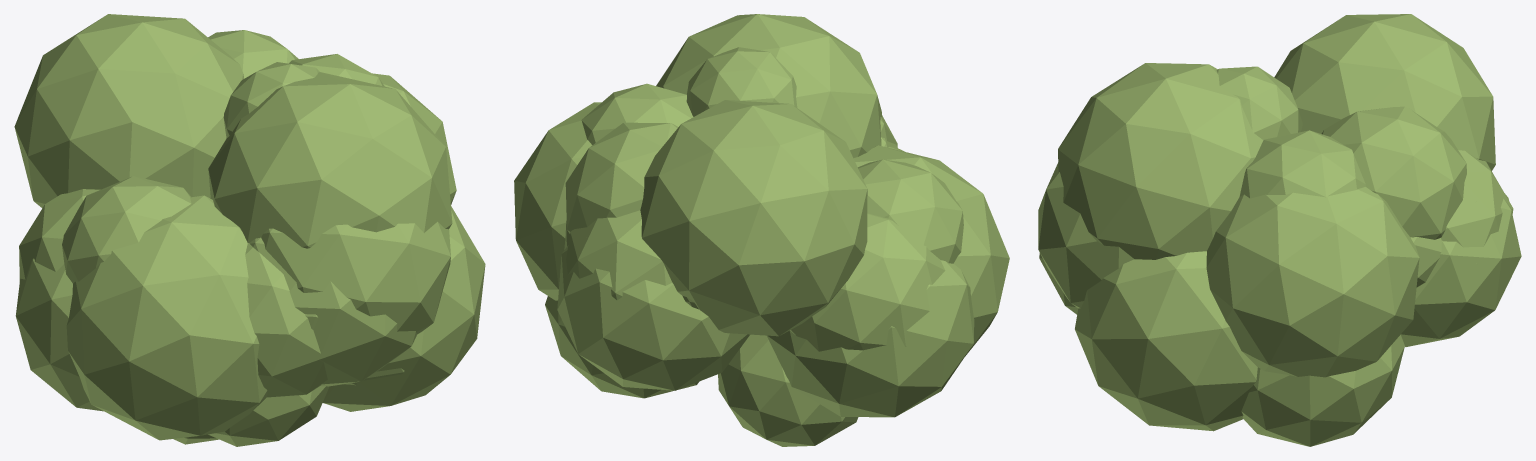
File: Bush_Field_2.fbx
The picture shows the model from 3 angles, left to right: view 1: azimuth 30°, elevation 25°; view 2: azimuth 150°, elevation 25°; view 3: azimuth 270°, elevation 25°; orthographic projection. The views are drawn at different scales.
Visible parts, largest first — view 1: Bush_3; view 2: Bush_3; view 3: Bush_3.
Part boxes in pixels (bbox=[...]): Bush_3: bbox=[14, 14, 485, 446]; Bush_3: bbox=[514, 14, 1009, 446]; Bush_3: bbox=[1038, 14, 1521, 446].
Size of the model in its own units: 122 by 103 by 121.
